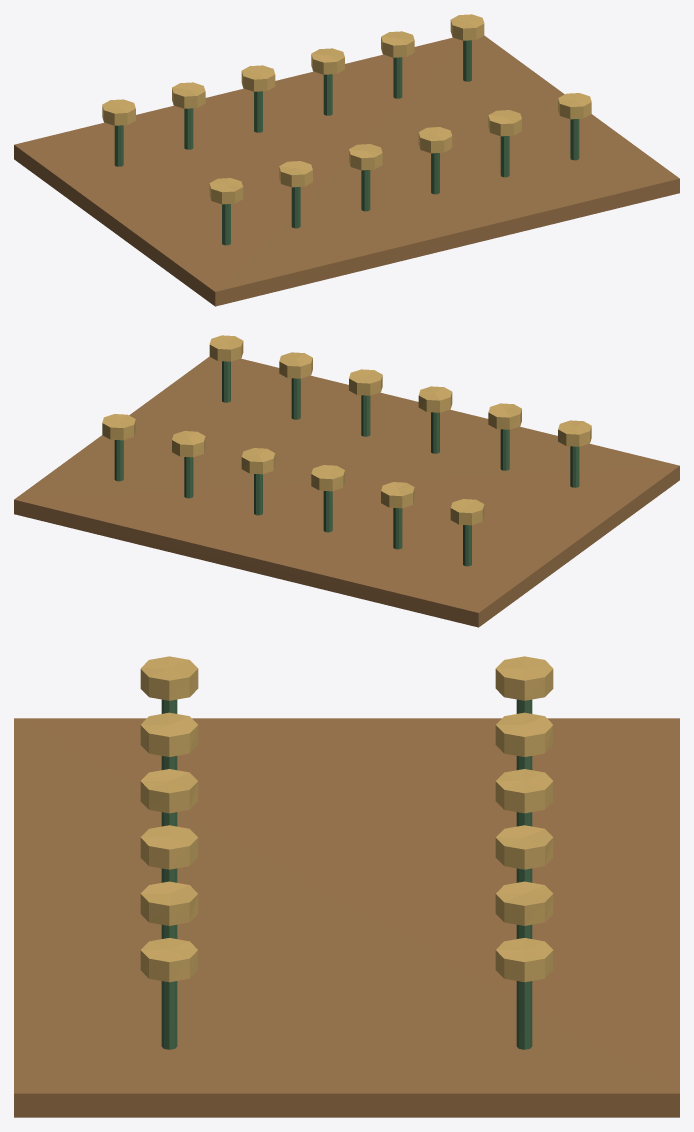
File: Butterfly-garden.glb
The picture shows the model from 3 angles, top to bottom: view 1: azimuth 30°, elevation 25°; view 2: azimuth 150°, elevation 25°; view 3: azimuth 270°, elevation 25°; orthographic projection. The views are drawn at different scales.
Parts seen in each view (by area): view 1: butterfly-garden-static-butterfly-garden-earth, butterfly-garden-static-butterfly-garden-flower, butterfly-garden-static-butterfly-garden-leaf; view 2: butterfly-garden-static-butterfly-garden-earth, butterfly-garden-static-butterfly-garden-flower, butterfly-garden-static-butterfly-garden-leaf; view 3: butterfly-garden-static-butterfly-garden-earth, butterfly-garden-static-butterfly-garden-flower, butterfly-garden-static-butterfly-garden-leaf.
Boxes of the visible parts, <box> form: butterfly-garden-static-butterfly-garden-earth: <box>14,35,679,306</box>; butterfly-garden-static-butterfly-garden-flower: <box>102,14,591,204</box>; butterfly-garden-static-butterfly-garden-leaf: <box>114,40,579,245</box>; butterfly-garden-static-butterfly-garden-earth: <box>14,356,679,627</box>; butterfly-garden-static-butterfly-garden-flower: <box>102,335,591,525</box>; butterfly-garden-static-butterfly-garden-leaf: <box>114,361,579,566</box>; butterfly-garden-static-butterfly-garden-earth: <box>14,718,679,1117</box>; butterfly-garden-static-butterfly-garden-flower: <box>140,656,553,982</box>; butterfly-garden-static-butterfly-garden-leaf: <box>161,699,532,1049</box>.
Size of the model in its own units: 4 by 0.6 by 3.
